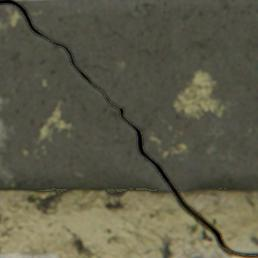brick: (0, 252, 59, 257)
broken_brick: (17, 0, 257, 191), (0, 5, 169, 191), (231, 255, 242, 257)
crack: (0, 0, 257, 257)
